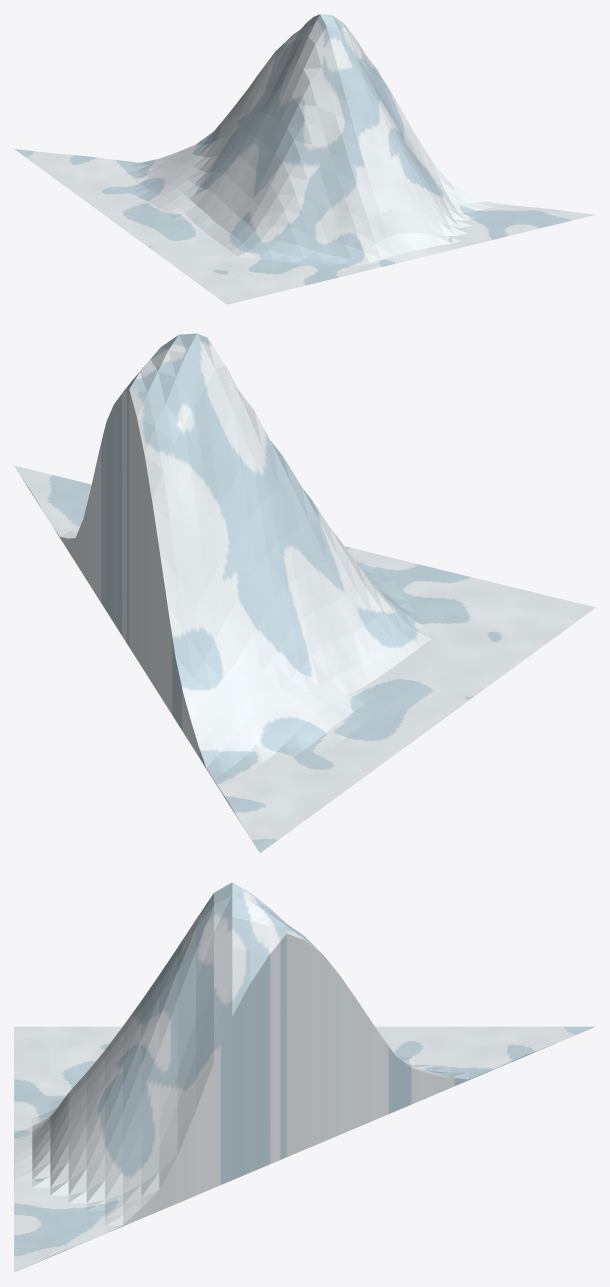
The model's file is Snow_Mountains_07_NW.obj.
3 renders of one model, top to bottom at view 1: azimuth 30°, elevation 25°; view 2: azimuth 150°, elevation 25°; view 3: azimuth 270°, elevation 25°, orthographic. The views are drawn at different scales.
Size of the model in its own units: 10 by 4.92 by 10.
1 material, 1 textured.
